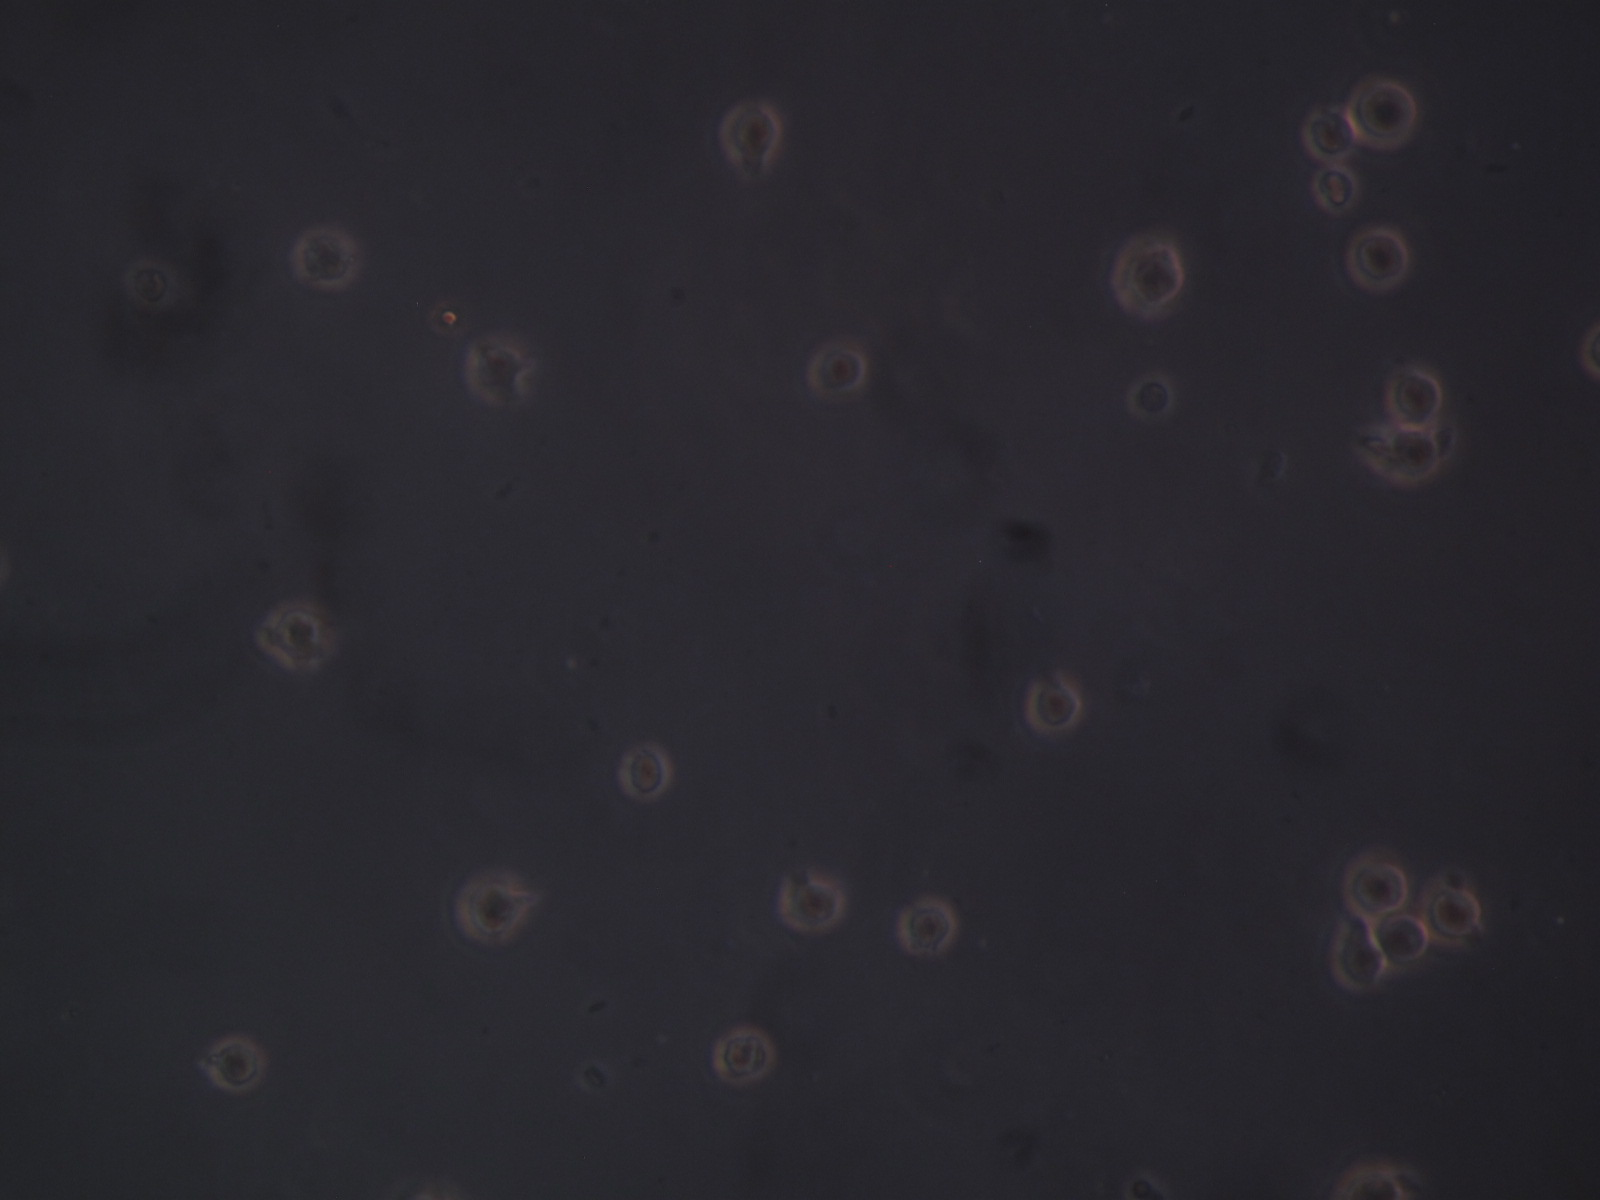hemo: (450, 866, 529, 947), (1110, 237, 1186, 321), (1346, 76, 1417, 150), (1340, 851, 1407, 920), (1329, 916, 1390, 991), (289, 224, 357, 290), (262, 605, 326, 671), (1346, 227, 1409, 292), (1419, 882, 1482, 947), (466, 342, 527, 405), (805, 342, 869, 401), (779, 875, 844, 932), (1386, 364, 1444, 426), (719, 103, 781, 160), (1376, 913, 1431, 973), (716, 1029, 776, 1084), (898, 897, 955, 955), (210, 1034, 265, 1093), (1385, 426, 1437, 484), (1301, 107, 1354, 163), (1027, 682, 1081, 734), (620, 746, 670, 800), (1313, 163, 1359, 218), (1125, 372, 1172, 424), (1344, 1161, 1403, 1200), (127, 261, 170, 308)
